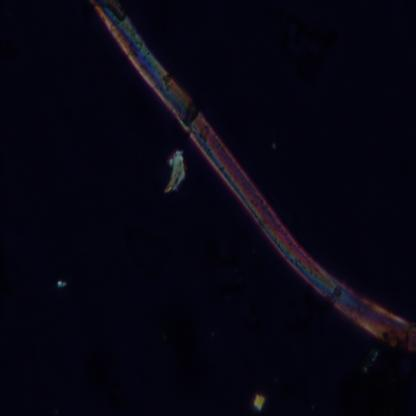Microfibre: (93, 0, 416, 355)
